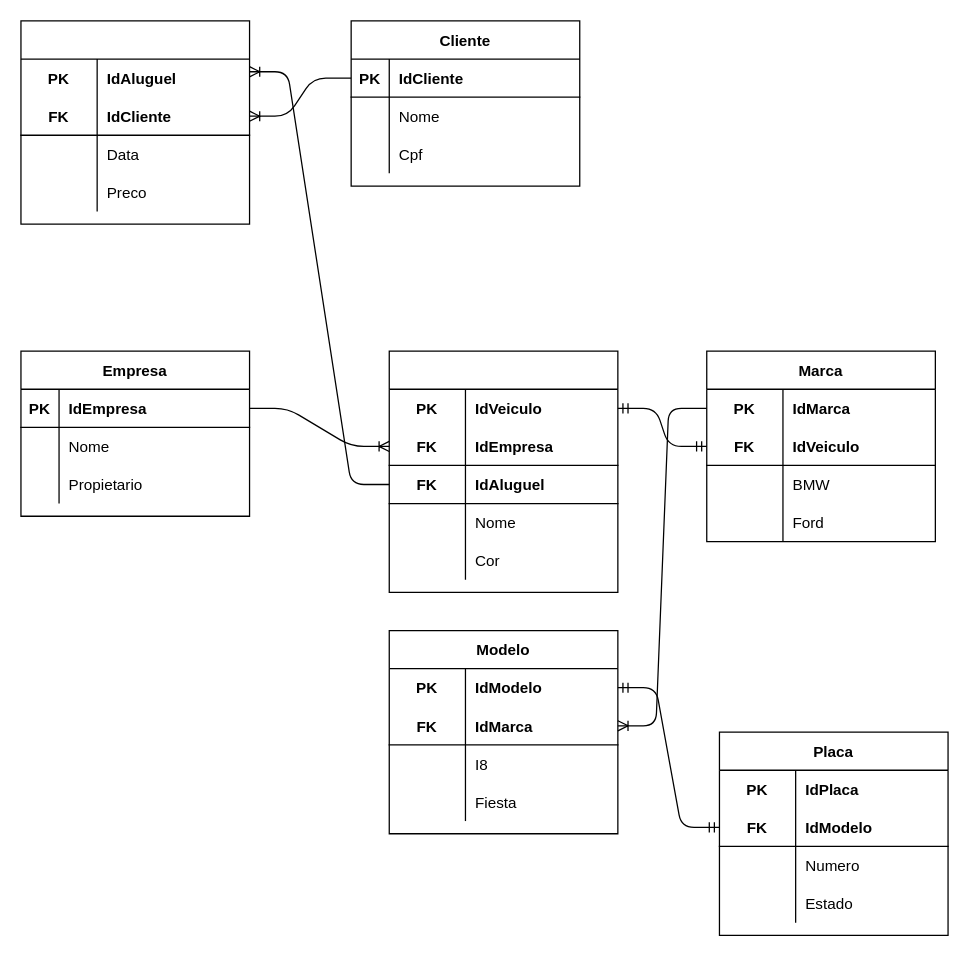
This 969x956 diagram has some shape labels left out. The box of each missing label's shape, as (x1, y1, x2, y2) in pixels:
Alugueis: (20, 20, 250, 224)
Veiculos: (388, 350, 618, 592)
